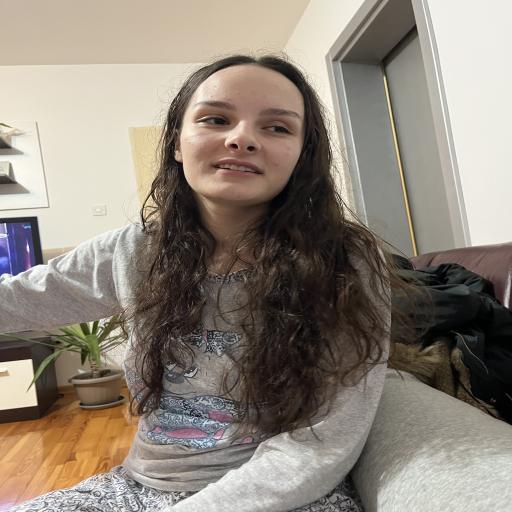marija: (181, 64, 313, 206)
